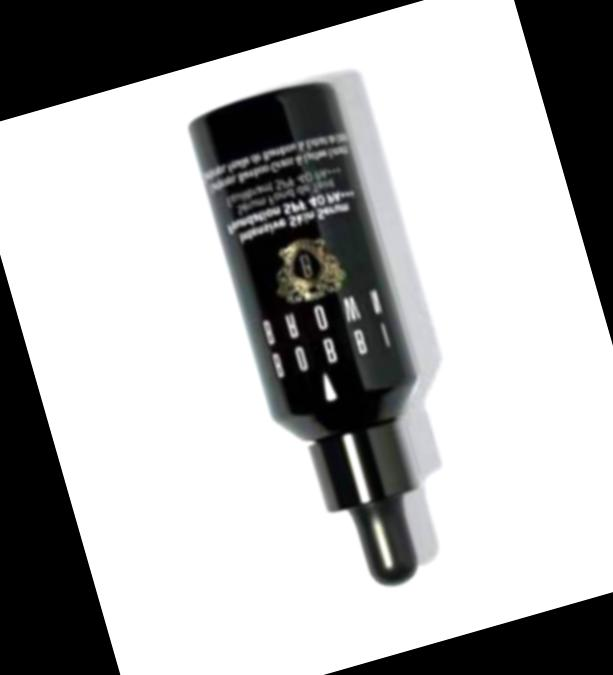cosmetic: (183, 84, 469, 607)
